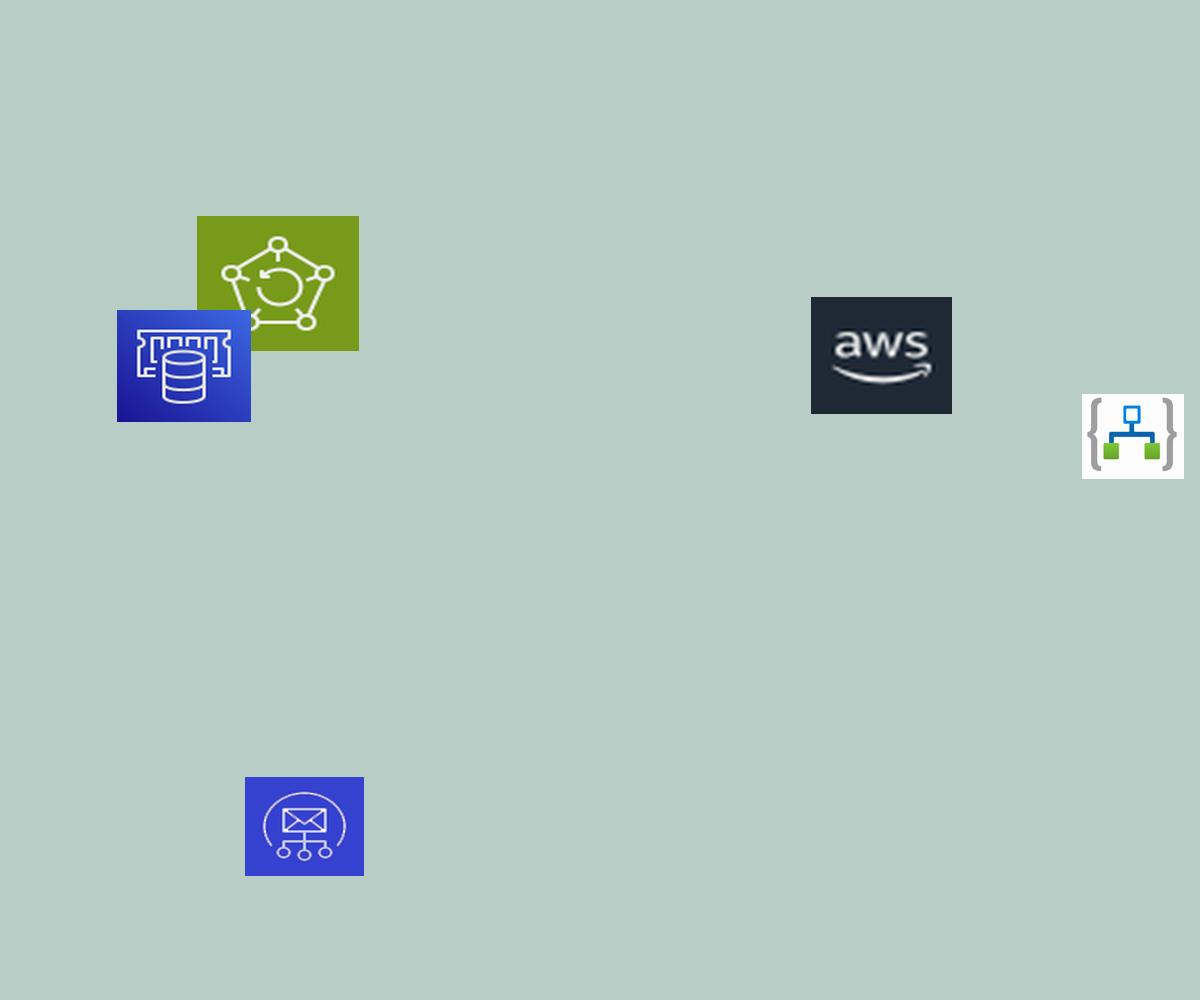AWS-Backup: (197, 216, 359, 351)
AWS-Cloud-logo: (811, 297, 952, 414)
AWS-ElastiCache: (117, 310, 251, 422)
AWS-Simple-Email-Service: (245, 777, 364, 876)
Azure_integration-204-Logic-Apps: (1082, 394, 1184, 479)
